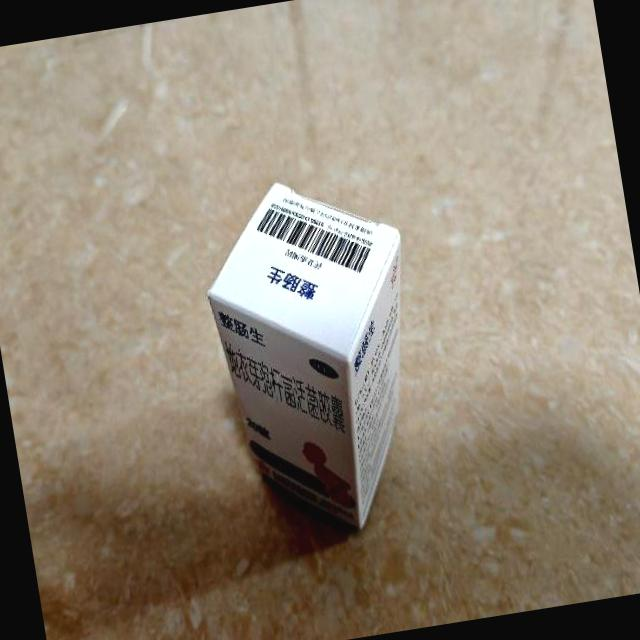box: (190, 164, 444, 547)
